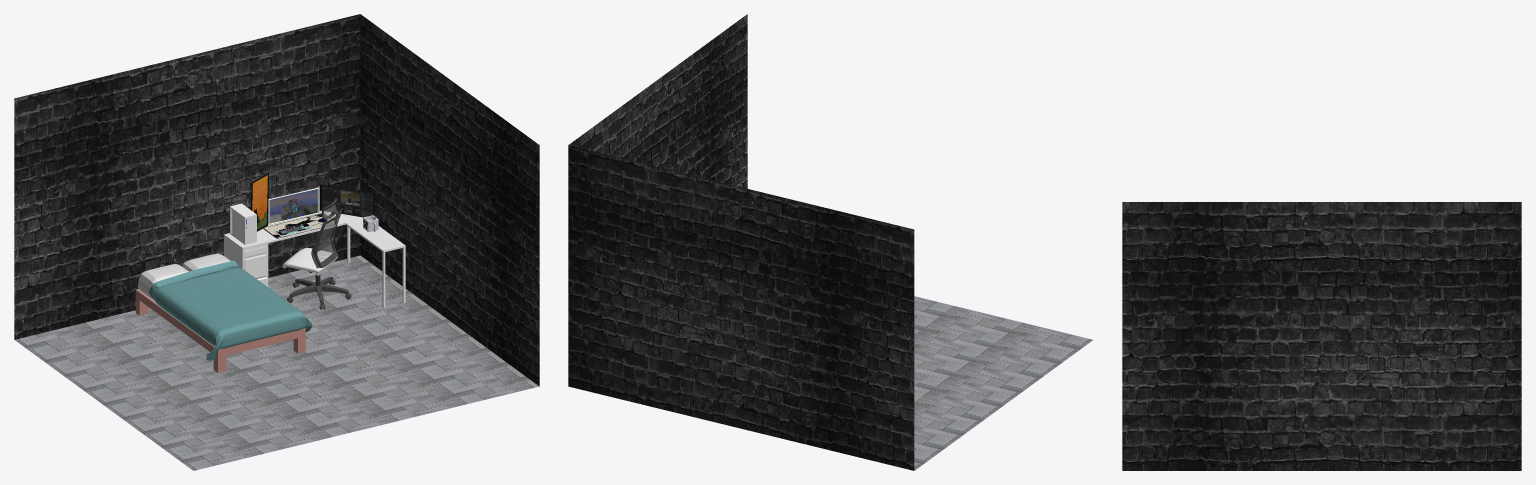
The model's file is SetUp_cyan.glb.
The picture shows the model from 3 angles, left to right: view 1: azimuth 30°, elevation 25°; view 2: azimuth 150°, elevation 25°; view 3: azimuth 270°, elevation 25°; orthographic projection. The views are drawn at different scales.
Visible parts, largest first — view 1: CasaEstructura, Sobrecama, Escritorio, BaseCama, MonitorPrincipal, Monitor3, BaseGabinete, Monitor2, almohadaR, Plane.006, Plane.012, MouseImagen (+1 smaller); view 2: CasaEstructura; view 3: CasaEstructura.
Boxes of the visible parts, x1,y1,x2,y2 form: CasaEstructura: (14, 14, 539, 470); Sobrecama: (149, 260, 312, 360); Escritorio: (224, 210, 405, 307); BaseCama: (135, 289, 305, 372); MonitorPrincipal: (268, 187, 319, 224); Monitor3: (320, 184, 374, 217); BaseGabinete: (230, 203, 256, 244); Monitor2: (250, 173, 268, 231); almohadaR: (138, 264, 188, 300); Plane.006: (282, 247, 337, 273); Plane.012: (289, 277, 348, 304); MouseImagen: (264, 213, 336, 237); CasaEstructura: (568, 14, 1092, 470); CasaEstructura: (1122, 202, 1521, 470).
Size of the model in its own units: 11.03 by 7.43 by 9.89.
33 materials, 12 textured.
